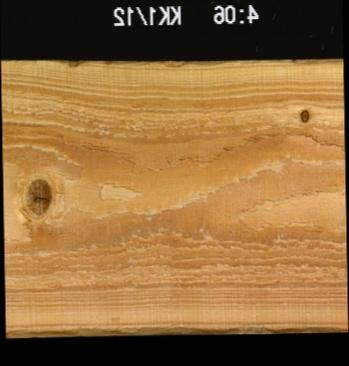dry_knot: (298, 107, 309, 123)
sound_knot: (23, 176, 53, 216)
wave: (4, 323, 347, 335), (156, 58, 237, 67), (270, 56, 342, 64)
